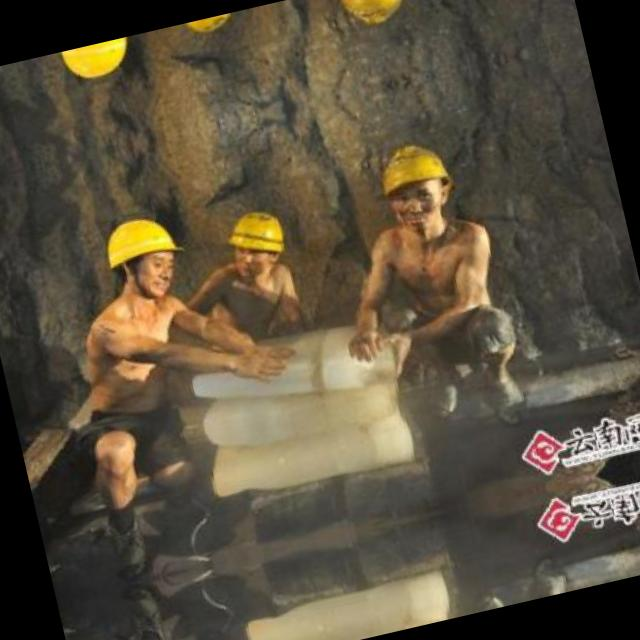helmet: (363, 130, 465, 242), (89, 201, 193, 309), (217, 199, 300, 289), (51, 34, 146, 94), (326, 0, 420, 40), (173, 10, 245, 45)
